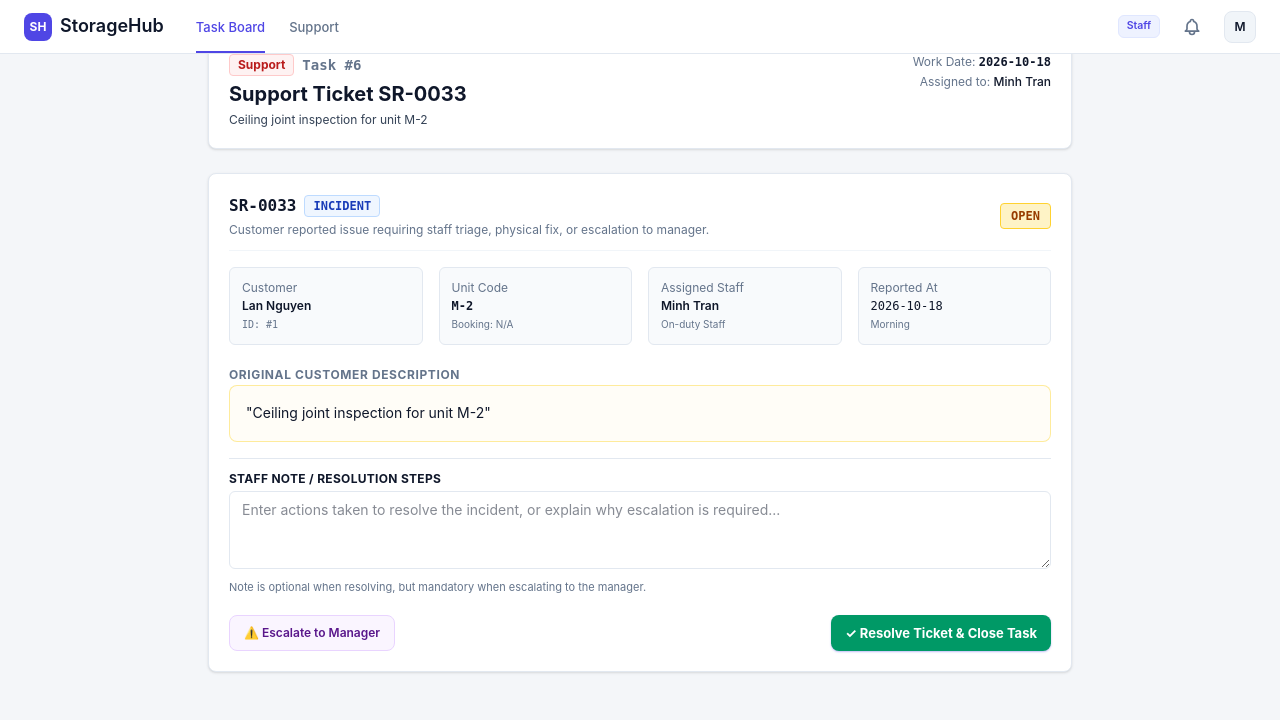
it: Story 5.2: Support Ticket — Xử lý, Resolve & Escalate › allows staff to escalate a support ticket with mandatory note
(page scrolled)
Expected: the element with test id "support-ticket-workflow" is shown, [208,173,1072,672]
// Attempting escalate without note shows error
Click the button with test id "escalate-ticket-btn". click: click(312, 633)
box: [229,615,395,651]
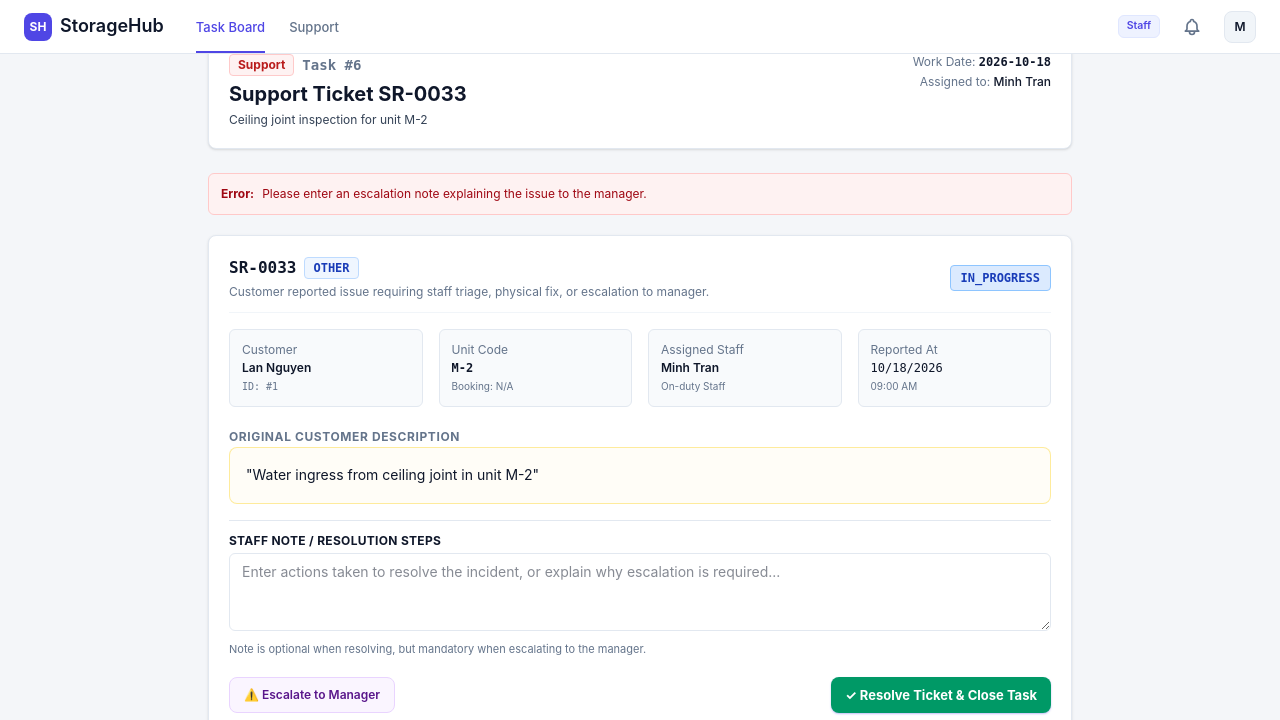
Result: the element with test id "support-error-banner" is shown at [208,173,1072,215]
Result: the text "Please enter an escalation note" is shown at [262,186,647,201]
// Provide note and escalate
Replace the text in the text box with test id "staff-note-input" with "Structural issue requires external facility engineer.". click: (640, 592)
box: [229,553,1051,631]
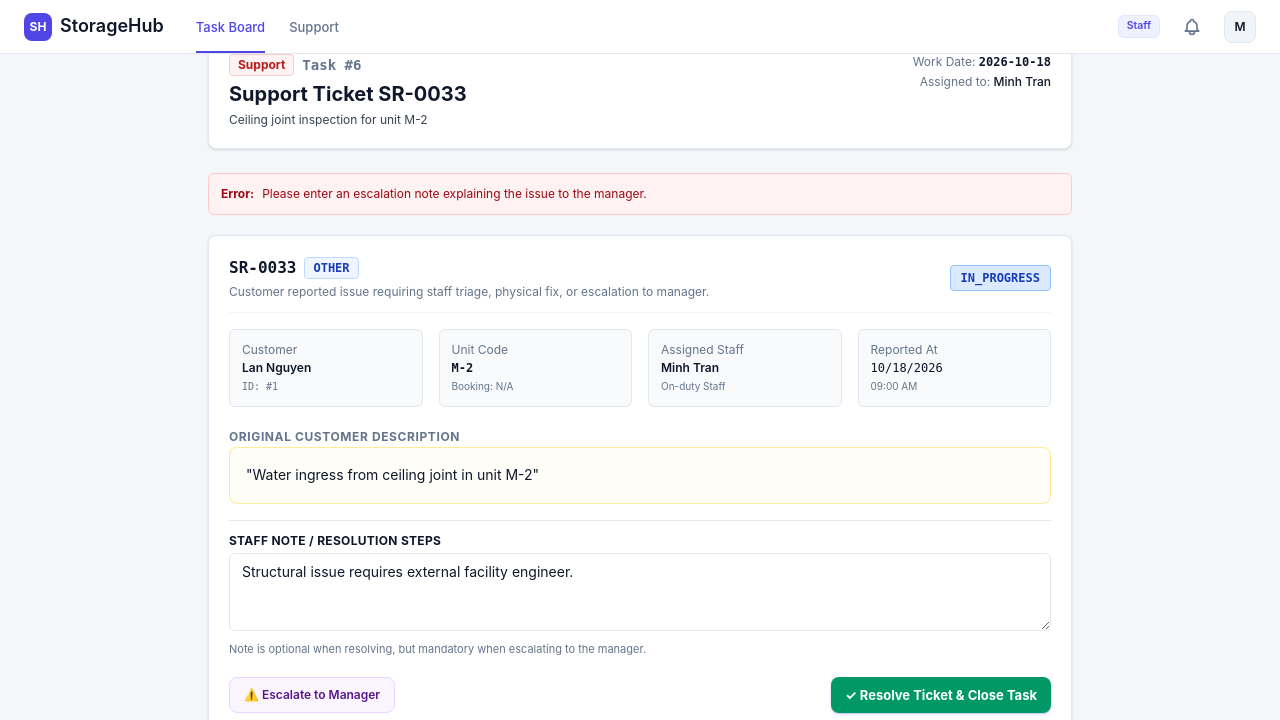
Click the button with test id "escalate-ticket-btn". click: click(312, 695)
box: [229,677,395,713]
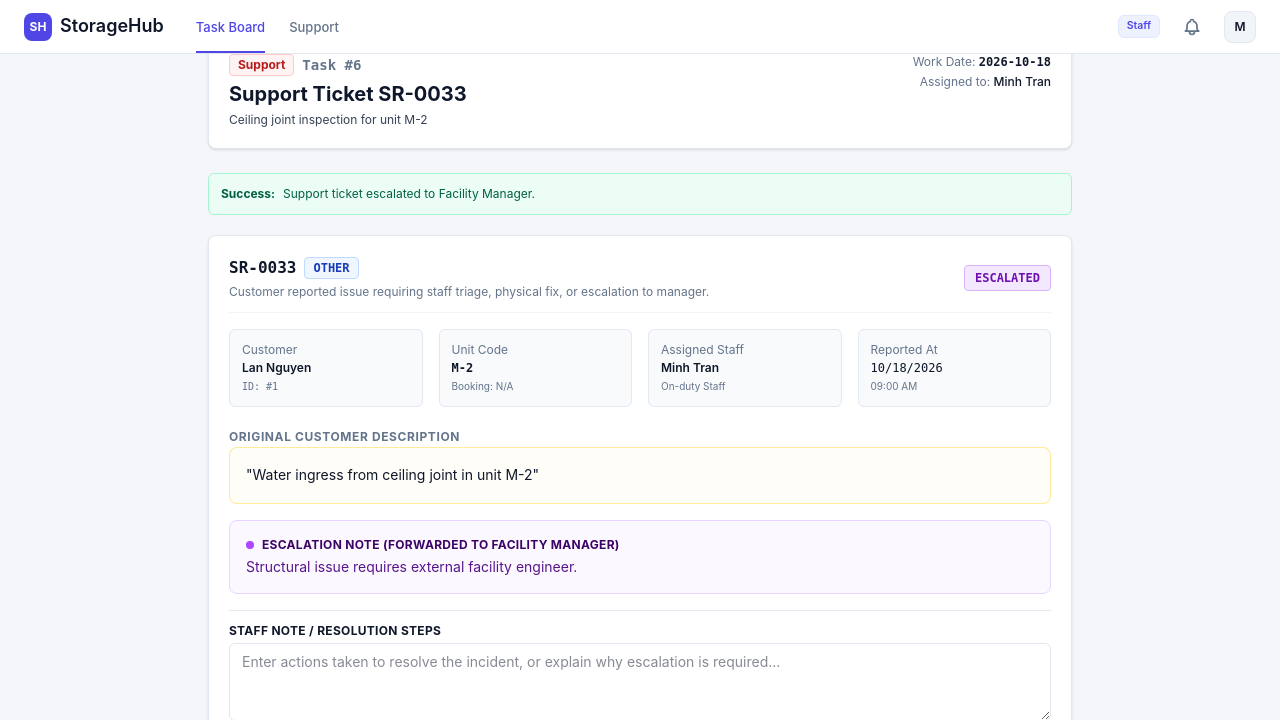
Result: the element with test id "support-success-banner" is shown at [208,173,1072,215]
Result: the text "Support ticket escalated to Facility Manager." is shown at [283,186,535,202]
